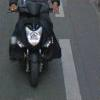Motorcycle: (4, 6, 65, 90)
